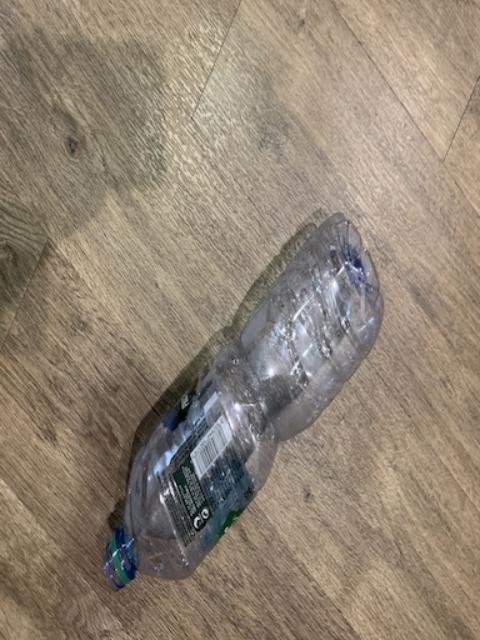plastic: (102, 212, 380, 588)
